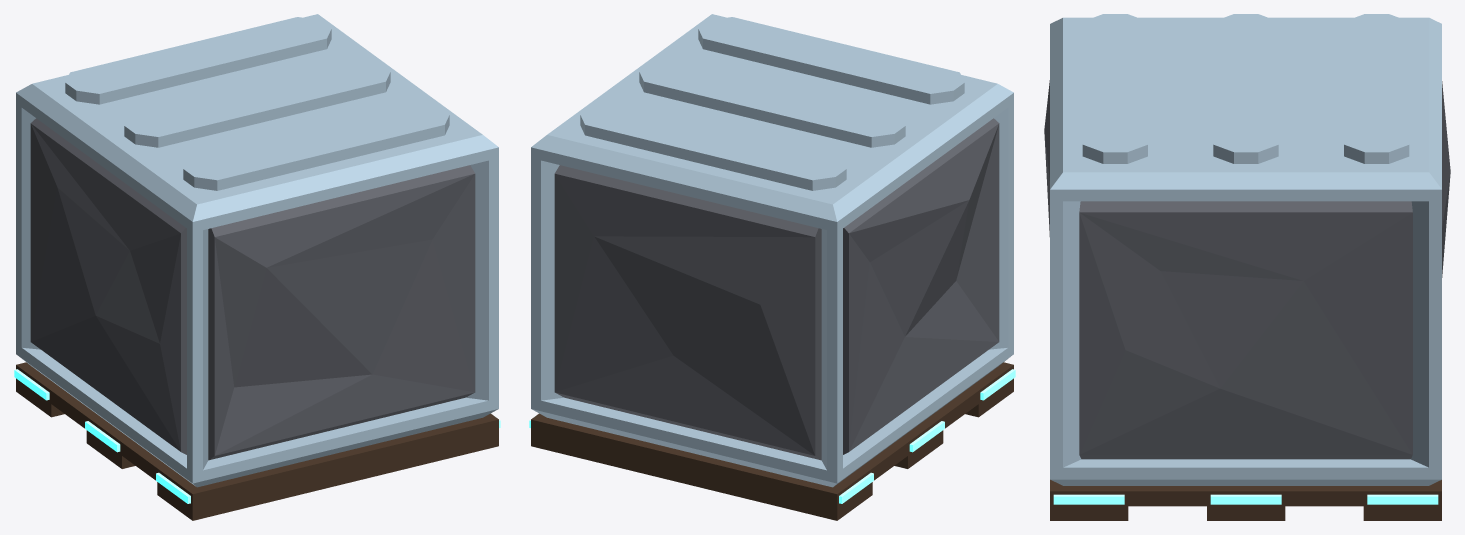
The model's file is Crate_Large.fbx.
3 renders of one model, left to right at view 1: azimuth 30°, elevation 25°; view 2: azimuth 150°, elevation 25°; view 3: azimuth 270°, elevation 25°, orthographic. The views are drawn at different scales.
Visible parts, largest first — view 1: Block_6; view 2: Block_6; view 3: Block_6.
Boxes of the visible parts, <box> form: Block_6: <box>14,14,500,520</box>; Block_6: <box>529,14,1015,520</box>; Block_6: <box>1044,14,1450,520</box>.
Bounding box in the file's own units: 6.25 × 6 × 6.22.
